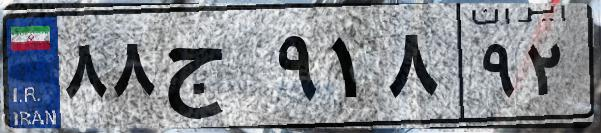1: (330, 28, 385, 110)
2: (525, 38, 570, 115)
8: (385, 28, 445, 110), (57, 26, 110, 100), (110, 28, 158, 98)
9: (270, 28, 330, 110), (475, 38, 525, 113)
ج: (158, 20, 270, 120)
